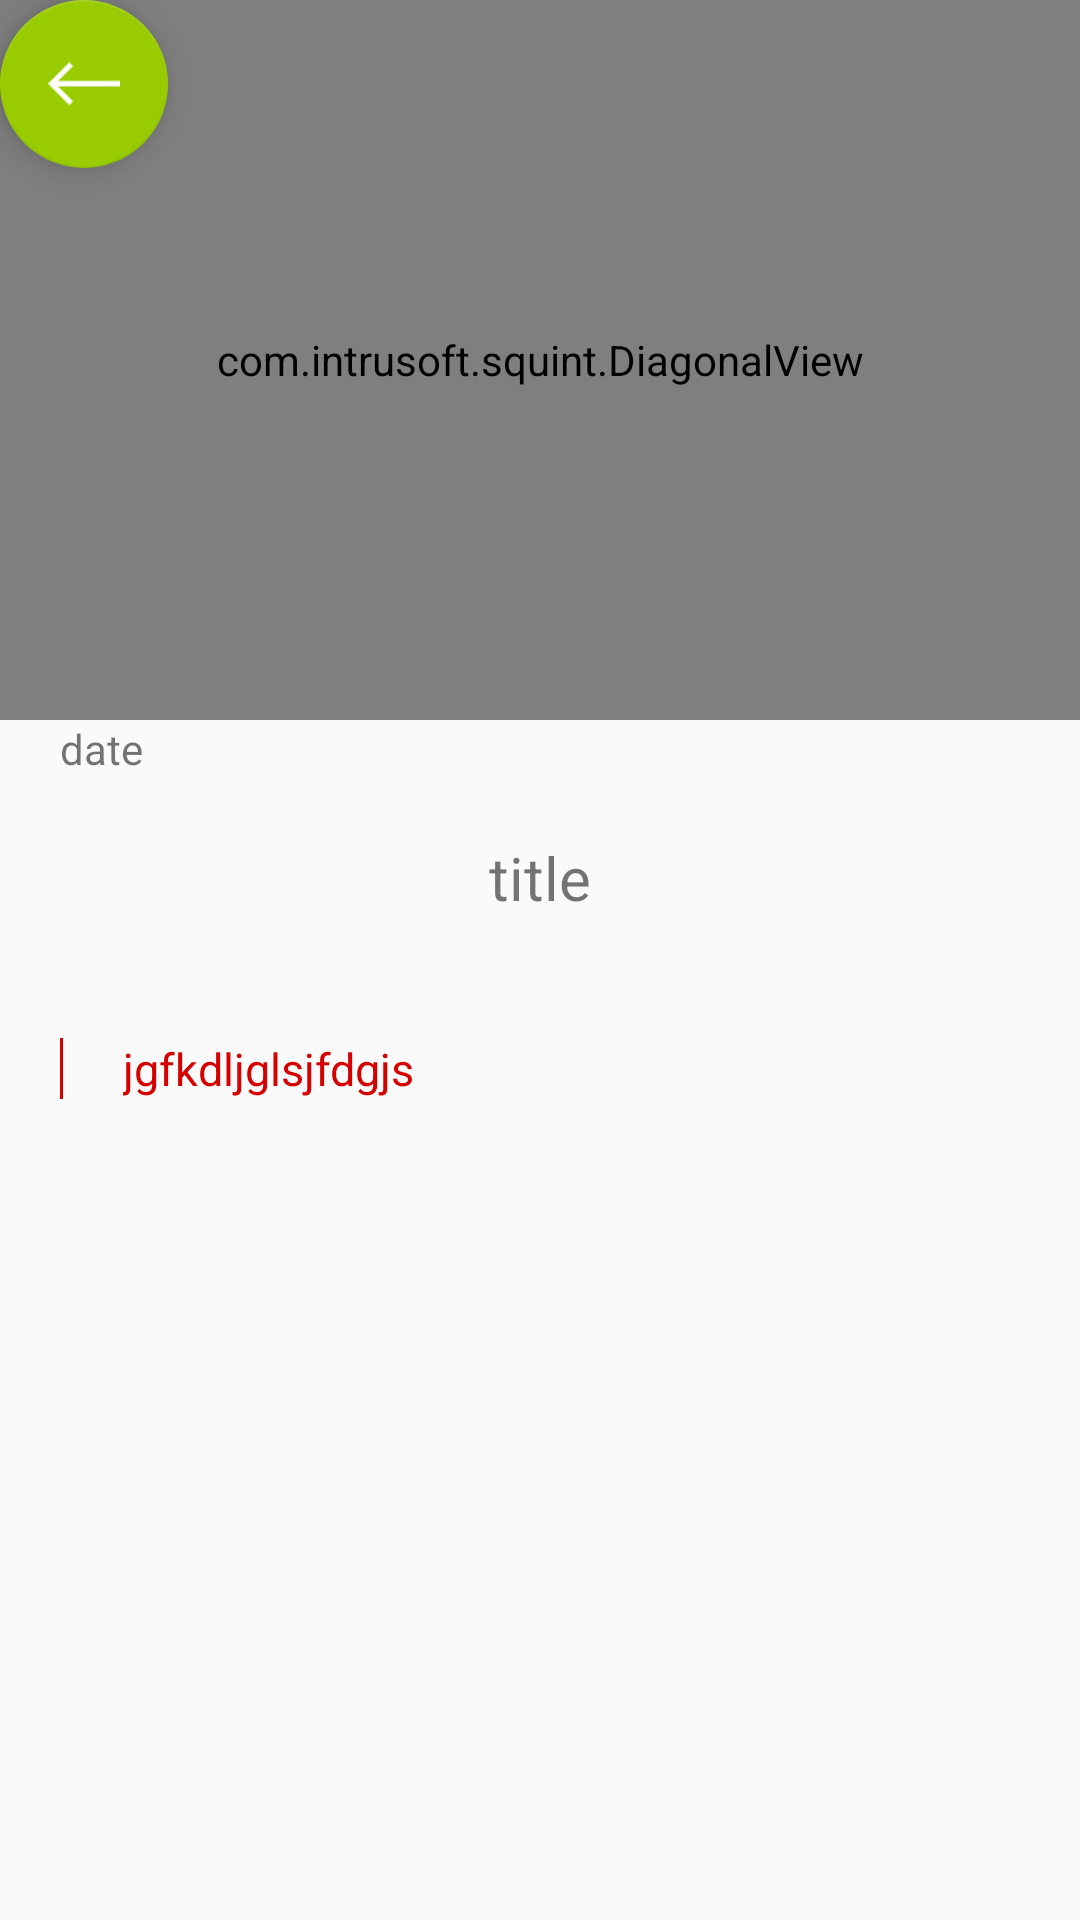

Where to tap for icons on this 1080 × 1920 app screen, as (x,y):
back arrow: (84,84)
